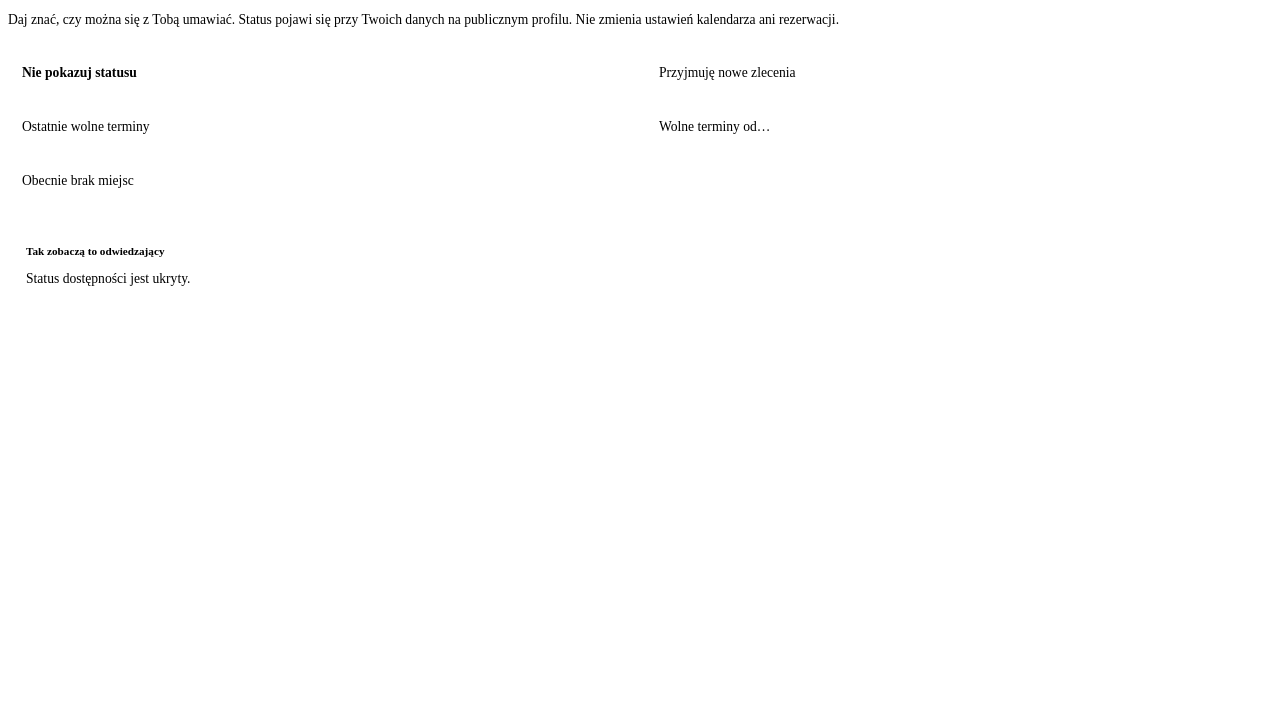
Scenario: choosing a status and writing a note updates its live preview
Click the button "Przyjmuję nowe zlecenia" at (727,73), box [645,51,1272,95]
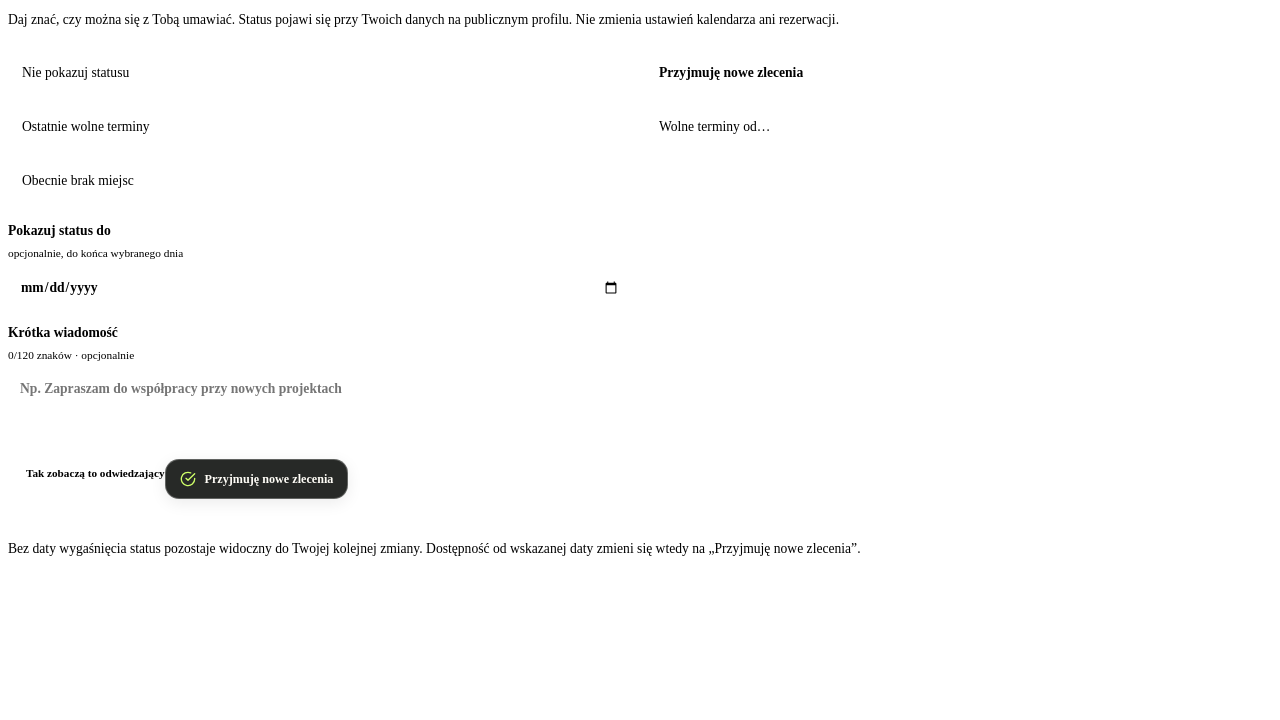
Type "Zapraszam do kontaktu" into the field with placeholder "Np. Zapraszam do współpracy przy nowych projektach" at (640,389), box [8,369,1272,409]
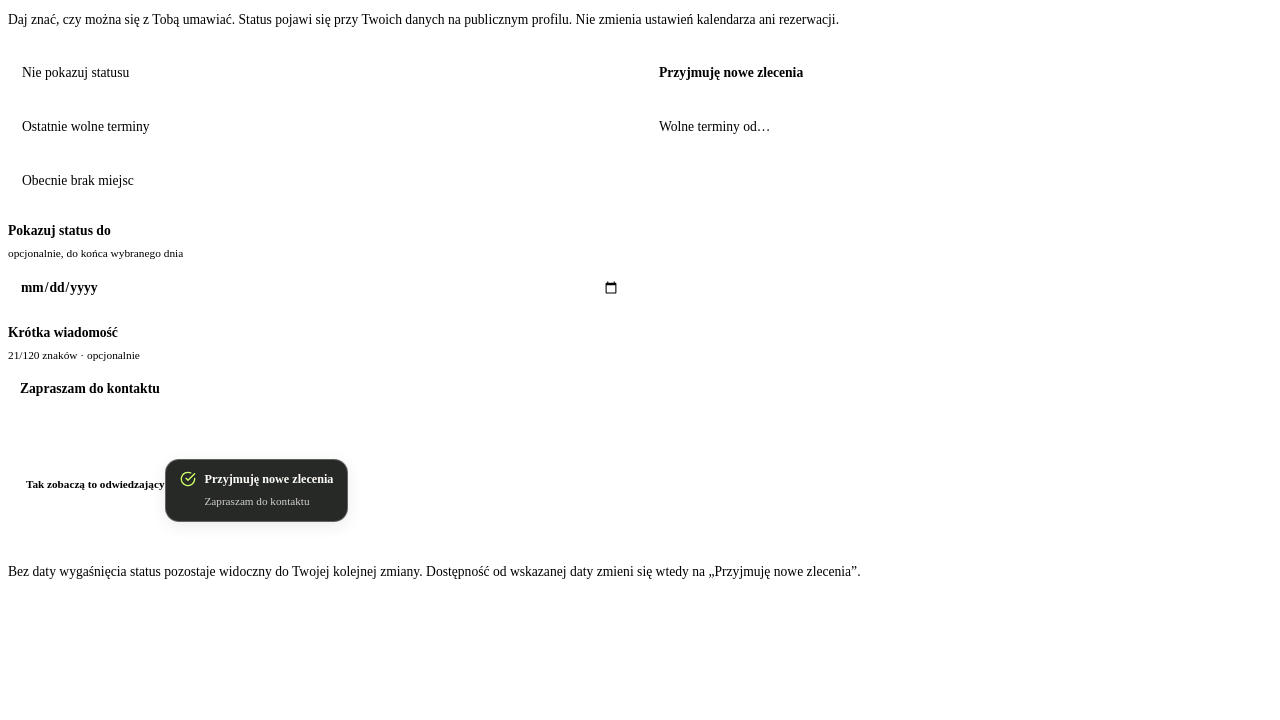
Result: the text "Zapraszam do kontaktu" is shown at [204,495,310,507]
Click the button "Nie pokazuj statusu" at (76,73), box [8,51,635,95]
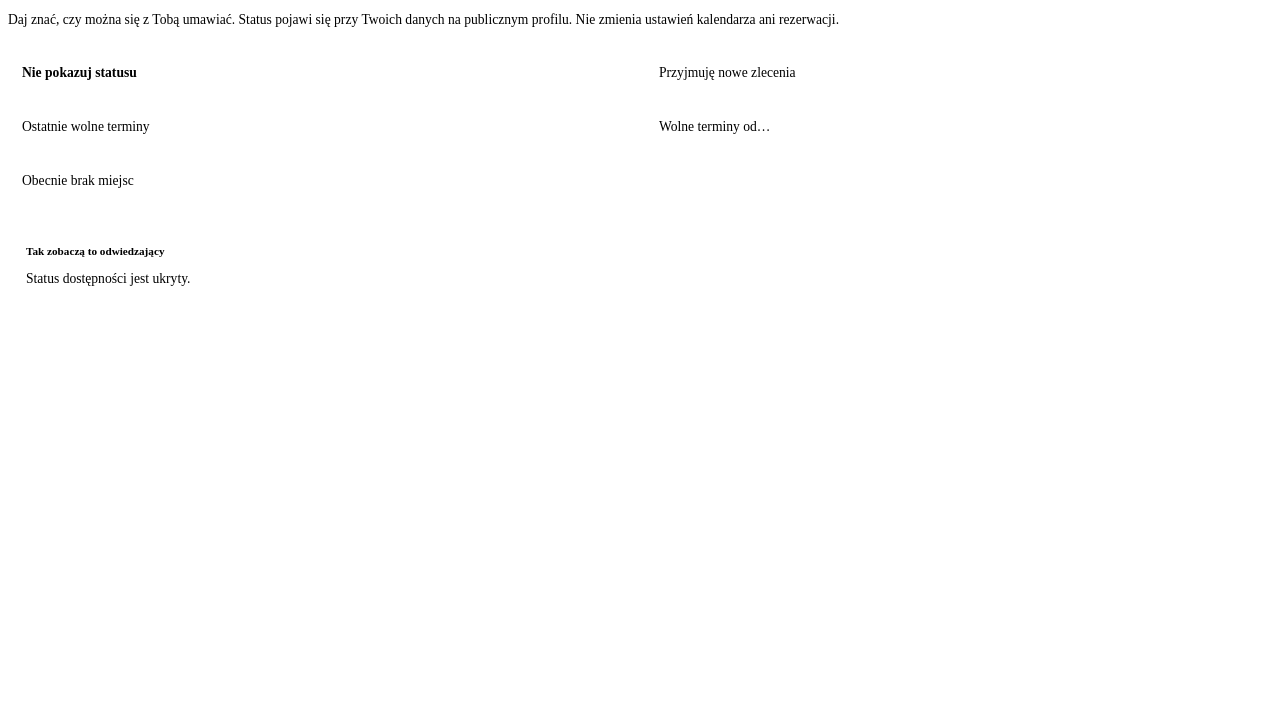
Result: the text "Zapraszam do kontaktu" is gone
Result: the text "Status dostępności jest ukryty." is shown at [26,271,190,286]
